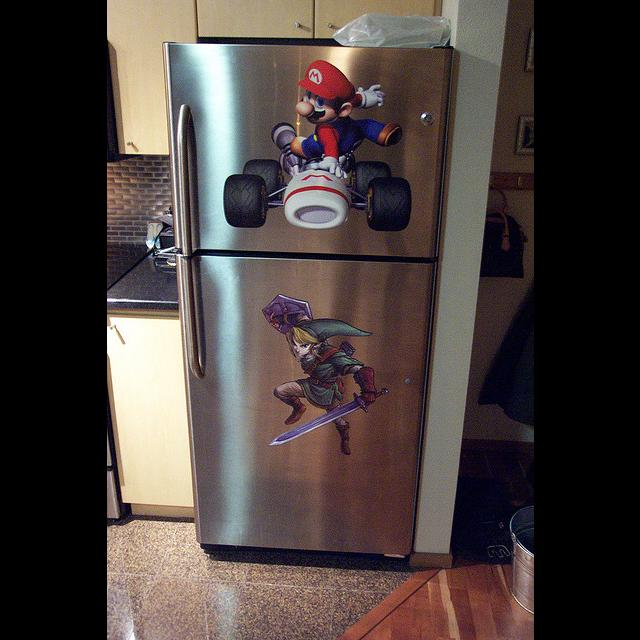Refrigerator: (163, 45, 448, 549)
